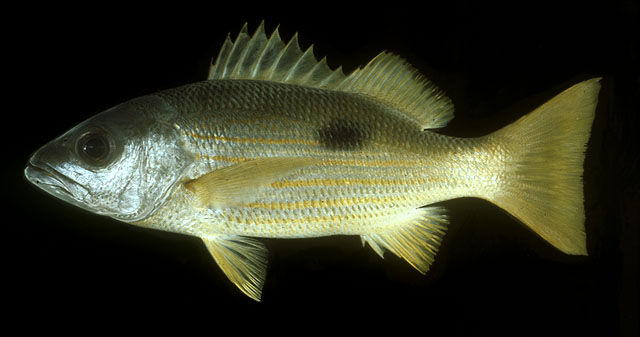fish: (23, 19, 603, 301)
